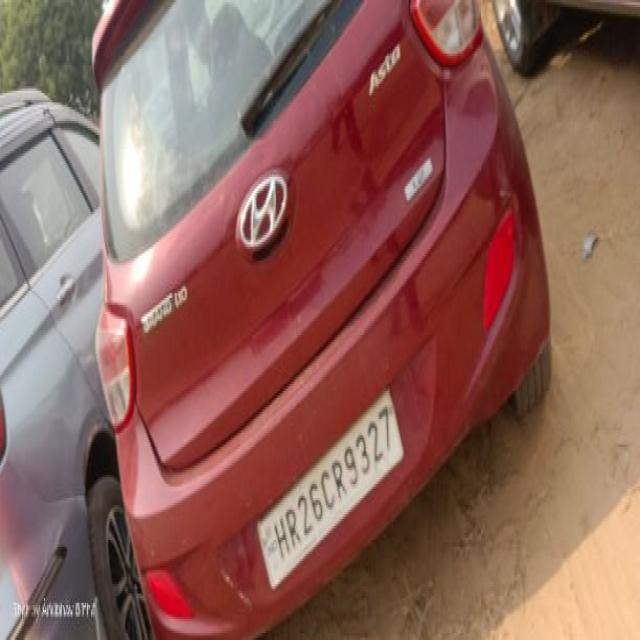license_plate: (255, 384, 405, 591)
